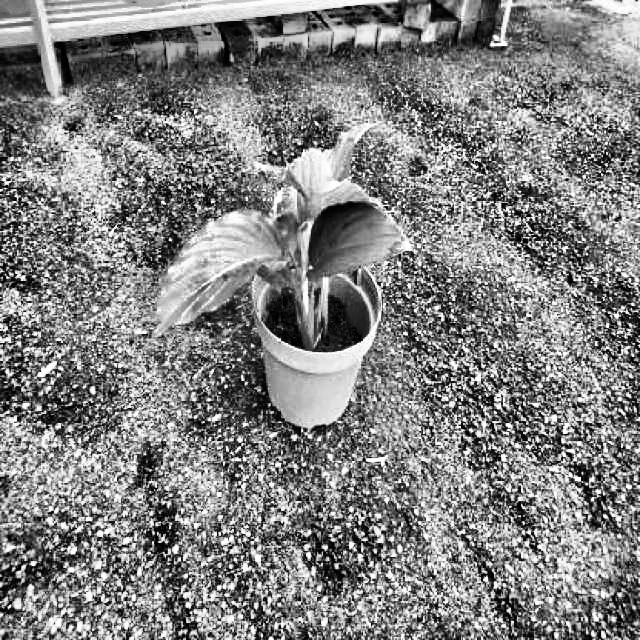plants: (154, 118, 414, 344)
